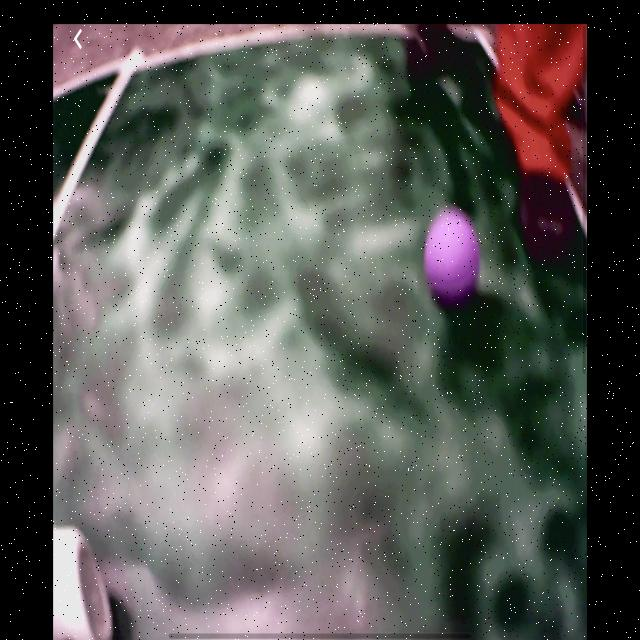ball: (426, 210, 479, 309)
